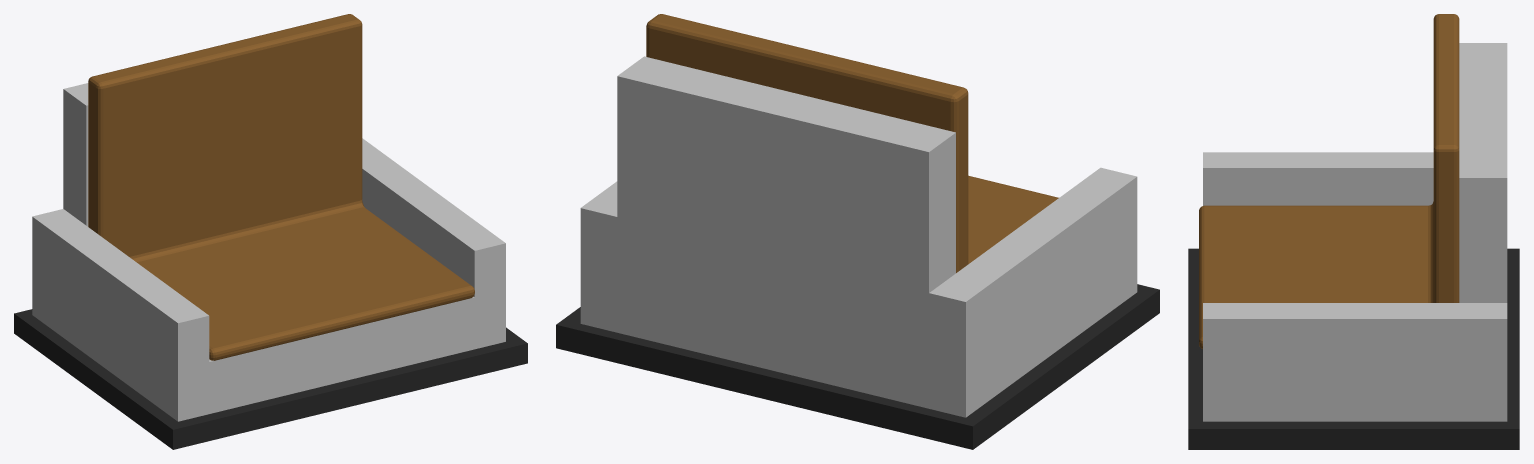
The model's file is Sofa_6.fbx.
3 renders of one model, left to right at view 1: azimuth 30°, elevation 25°; view 2: azimuth 150°, elevation 25°; view 3: azimuth 270°, elevation 25°, orthographic. The views are drawn at different scales.
Parts seen in each view (by area): view 1: Sofa_6; view 2: Sofa_6; view 3: Sofa_6.
Boxes of the visible parts, box(x1,y1,x2,y2) form: Sofa_6: box(14, 14, 527, 449); Sofa_6: box(556, 14, 1159, 449); Sofa_6: box(1188, 14, 1519, 449).
Bounding box in the file's own units: 1.02 × 0.7367 × 0.7921.
